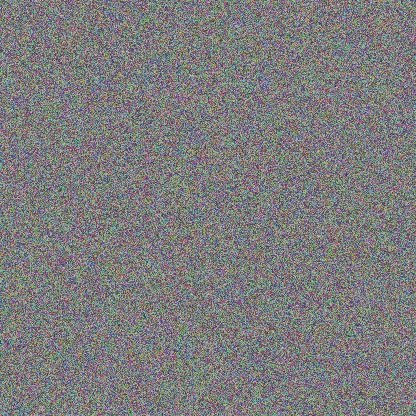empty: (174, 60, 292, 117), (280, 220, 338, 262)
